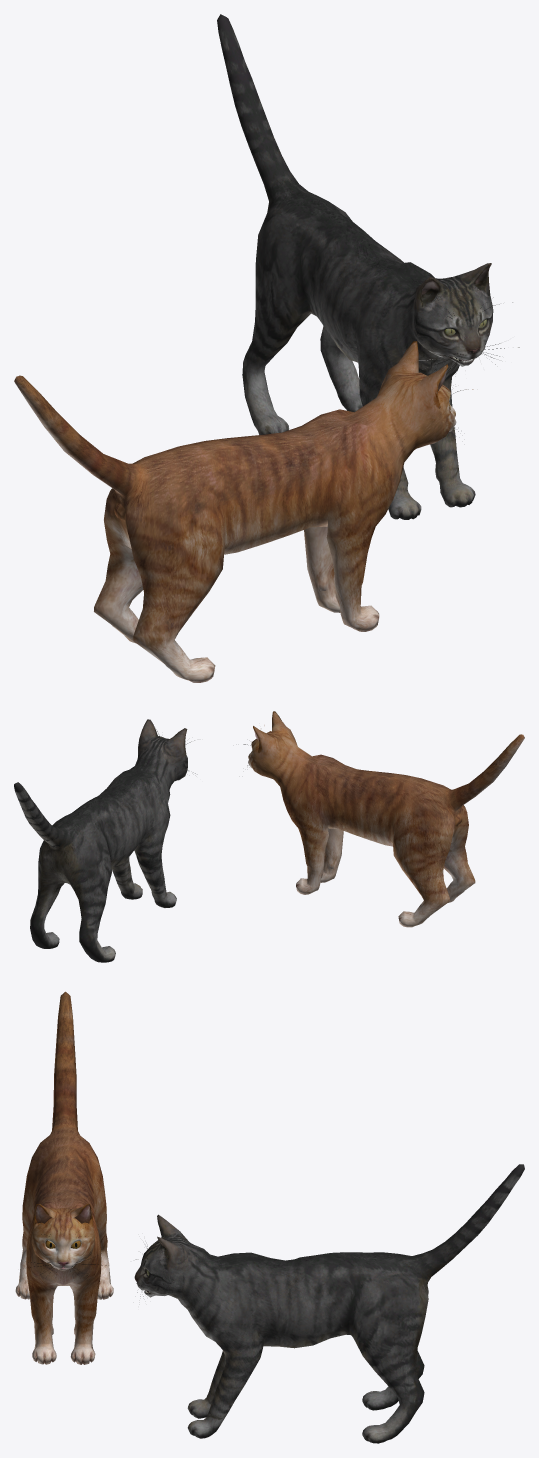
The picture shows the model from 3 angles, top to bottom: view 1: azimuth 30°, elevation 25°; view 2: azimuth 150°, elevation 25°; view 3: azimuth 270°, elevation 25°; orthographic projection. The views are drawn at different scales.
Parts seen in each view (by area): view 1: default_object, cat; view 2: default_object, cat; view 3: cat, default_object.
Part boxes in pixels (x1,y1,x2,y2): default_object: (14, 341, 456, 682); cat: (217, 14, 493, 519); default_object: (248, 711, 524, 927); cat: (14, 719, 187, 962); cat: (134, 1164, 524, 1443); default_object: (15, 991, 113, 1364).
Bounding box in the file's own units: 66.76 × 68.53 × 38.58.
2 materials, 2 textured.
